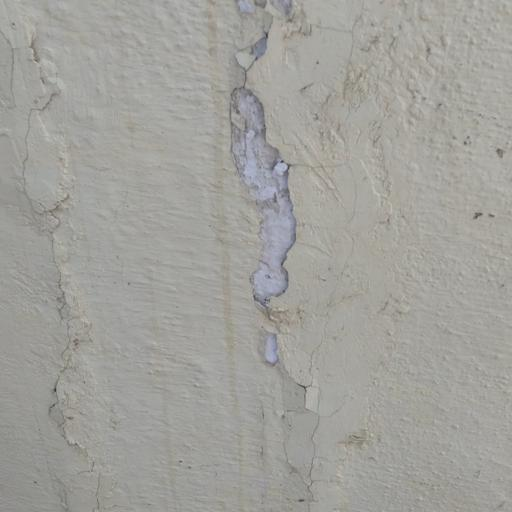peeling: (195, 0, 360, 501), (0, 16, 126, 447)
